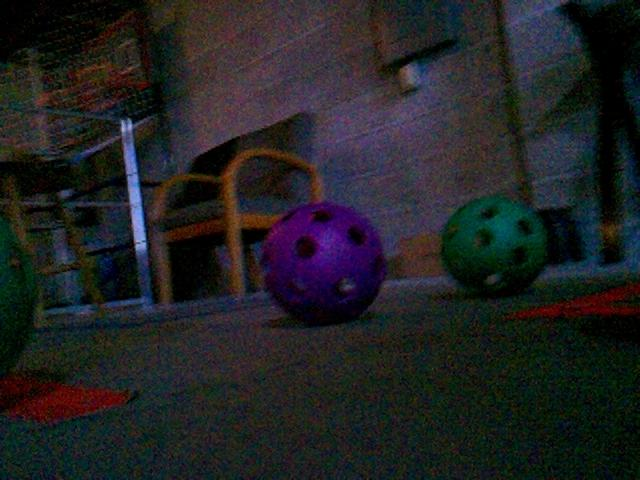Green: (437, 193, 550, 295), (0, 209, 36, 380)
Purple: (257, 201, 385, 324)
